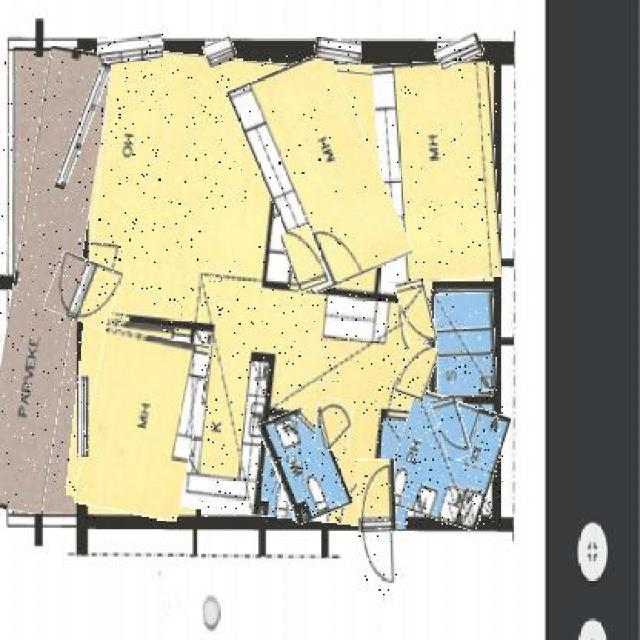door: (358, 458, 398, 596), (47, 256, 121, 324), (284, 226, 324, 291), (400, 278, 434, 344), (436, 394, 470, 460), (397, 343, 435, 399), (316, 398, 352, 451)
window: (65, 60, 100, 191), (99, 34, 163, 63), (437, 36, 483, 66), (314, 39, 361, 63), (77, 375, 89, 457), (203, 39, 235, 66)
zone: (79, 56, 442, 522), (0, 46, 94, 512), (244, 55, 394, 288), (377, 60, 498, 282), (82, 332, 202, 517), (389, 394, 503, 524), (266, 408, 345, 522), (435, 294, 497, 391)
